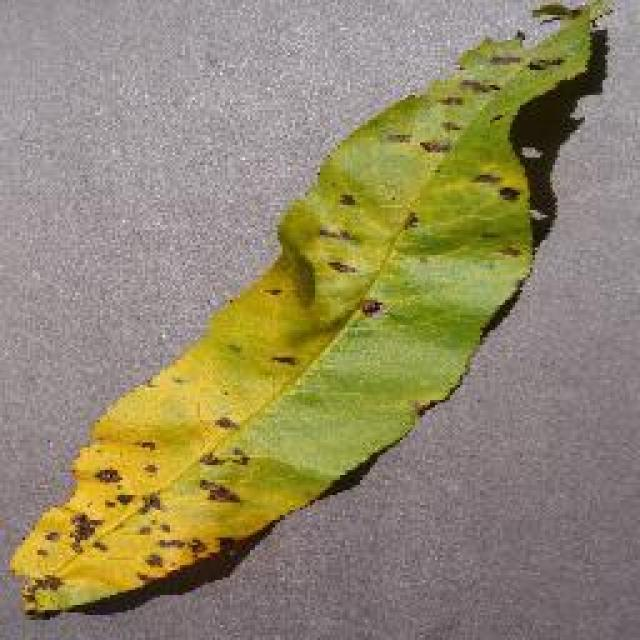Peach_Bacterial_Spot: (79, 398, 328, 580)
